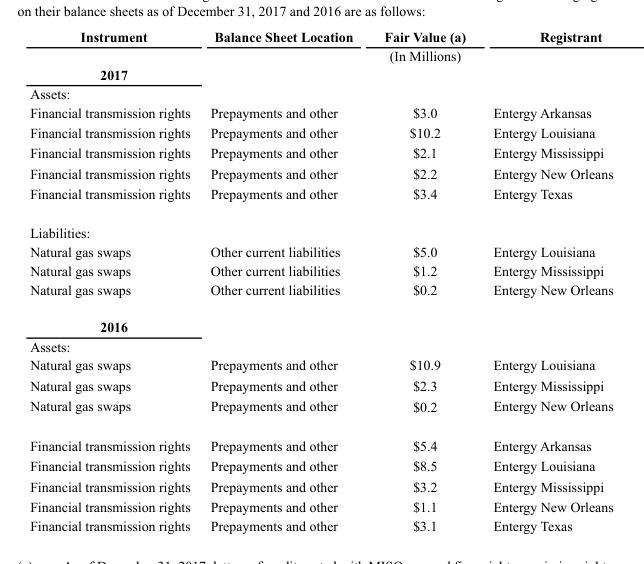table: (29, 28, 612, 532)
table column: (29, 28, 199, 532), (199, 28, 367, 532), (478, 28, 612, 532), (367, 28, 478, 532)
table column header: (29, 28, 612, 64)
table projected row header: (29, 212, 612, 241), (29, 307, 612, 336), (29, 64, 612, 83), (29, 83, 612, 102), (29, 336, 612, 355)
table row: (29, 28, 612, 64), (29, 395, 612, 426), (29, 182, 612, 212), (29, 212, 612, 241), (29, 307, 612, 336), (29, 426, 612, 455), (29, 279, 612, 307), (29, 374, 612, 395), (29, 475, 612, 496), (29, 102, 612, 122), (29, 122, 612, 142), (29, 142, 612, 162), (29, 162, 612, 182), (29, 455, 612, 475), (29, 64, 612, 83), (29, 83, 612, 102), (29, 241, 612, 260), (29, 260, 612, 279), (29, 336, 612, 355), (29, 355, 612, 374), (29, 496, 612, 515), (29, 515, 612, 532)
